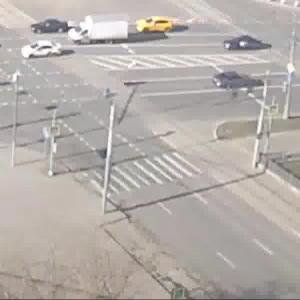car: (69, 17, 130, 48), (209, 68, 262, 92), (21, 38, 65, 65), (221, 34, 271, 55), (131, 13, 175, 36), (30, 19, 70, 37)
